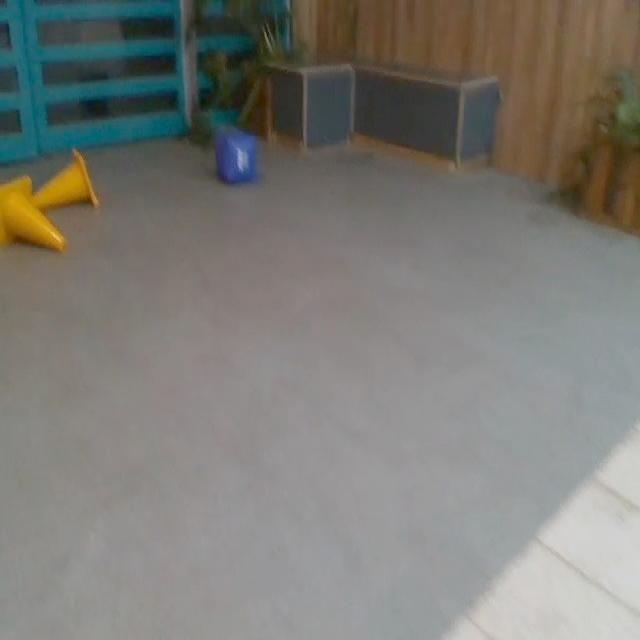cone: (0, 170, 70, 257), (29, 145, 101, 210)
cube: (218, 127, 262, 188)
